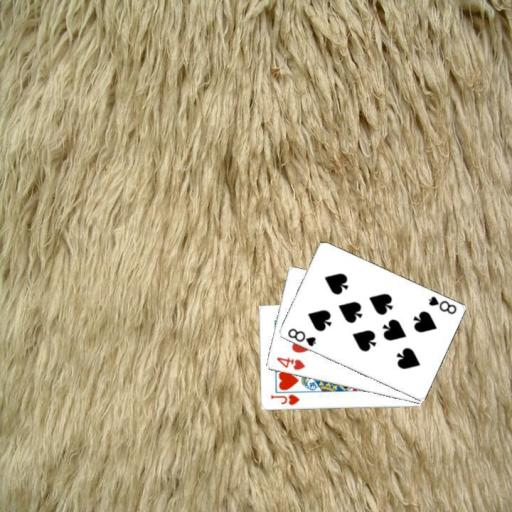4H: (273, 354, 306, 372)
8S: (425, 293, 458, 316), (285, 325, 317, 348)
JH: (267, 392, 301, 407)
